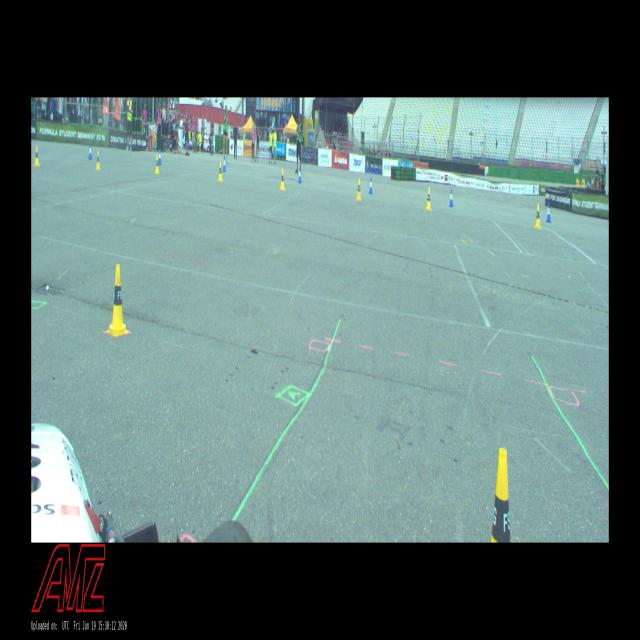blue_cone: (546, 202, 551, 222), (449, 188, 454, 206), (88, 144, 93, 160), (369, 177, 373, 194), (222, 157, 226, 172), (298, 168, 302, 183), (159, 149, 162, 165)
yellow_cone: (491, 448, 511, 543), (106, 264, 129, 337), (534, 203, 542, 229), (280, 168, 286, 191), (426, 187, 432, 210), (34, 145, 40, 167), (356, 178, 362, 200), (154, 155, 160, 173), (218, 161, 223, 181), (96, 150, 100, 170)
